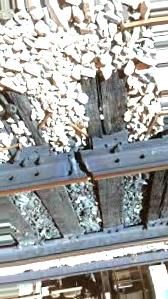tracks_fault: (62, 151, 100, 194)
